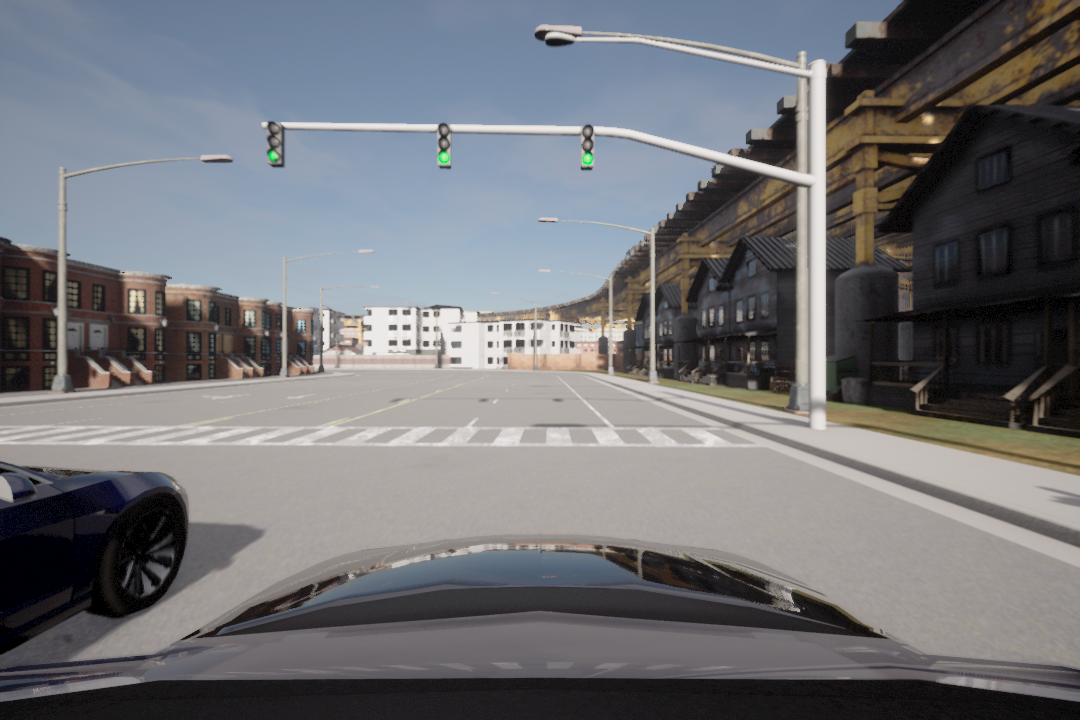TrafficLight: (431, 118, 458, 176), (263, 114, 286, 171), (581, 124, 594, 174)
walkside: (3, 419, 798, 464)
